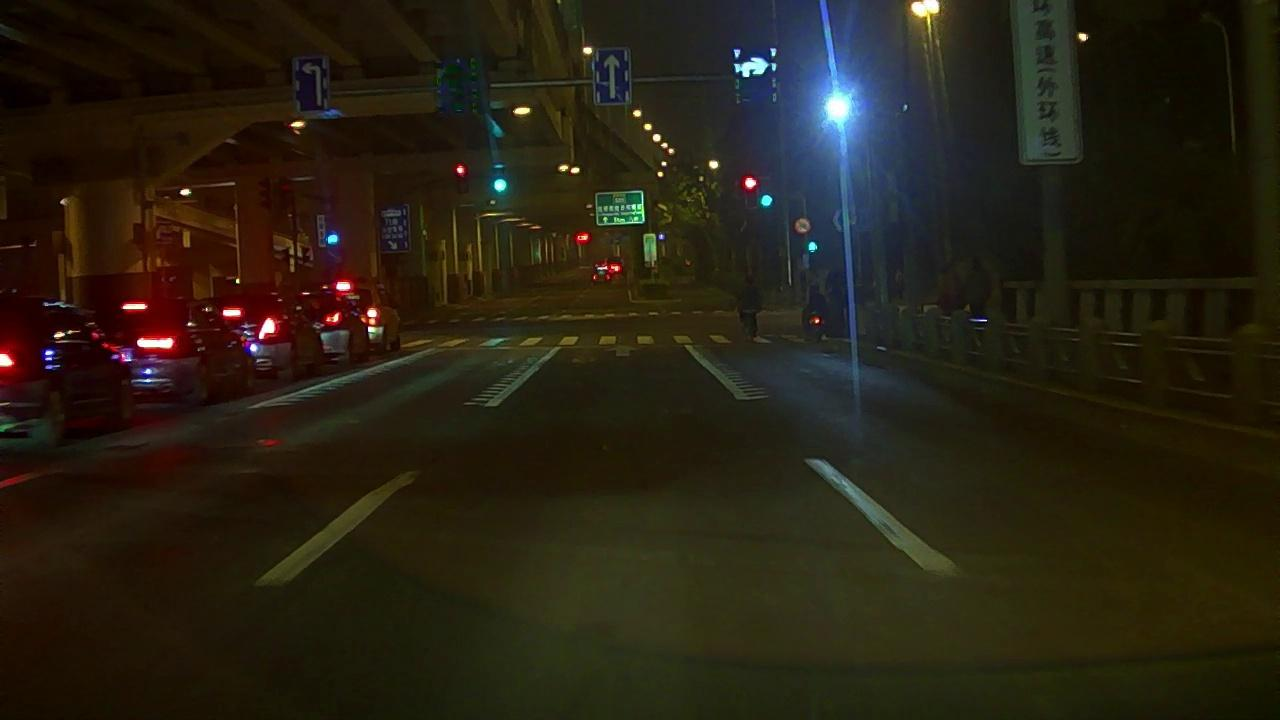traffic_light: (825, 91, 851, 120), (742, 178, 758, 190), (495, 177, 508, 191), (761, 193, 773, 208), (456, 165, 466, 173)
